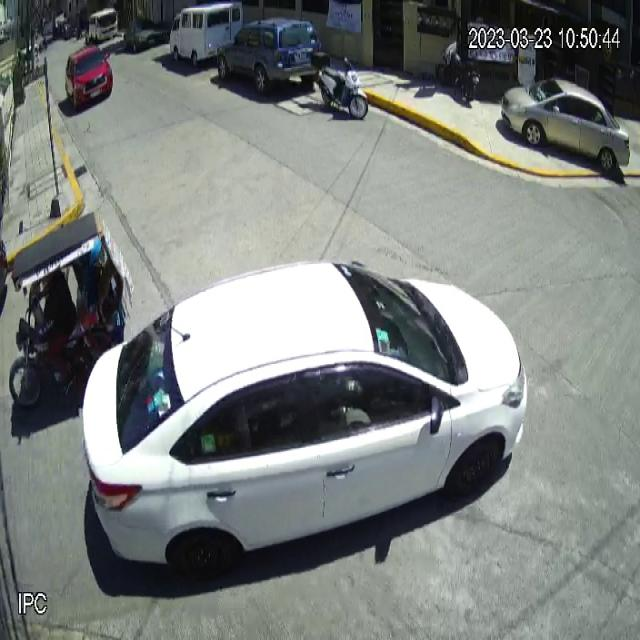Car: (81, 260, 528, 580), (500, 76, 630, 173), (215, 15, 322, 93)
Motorcycle: (311, 51, 368, 120)
Tricycle: (8, 211, 126, 411)
Van: (170, 0, 244, 70)
